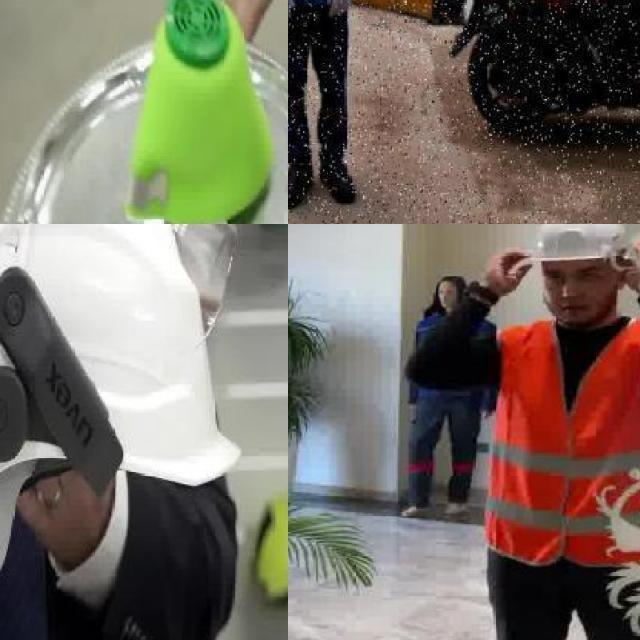apron: (321, 0, 358, 22)
